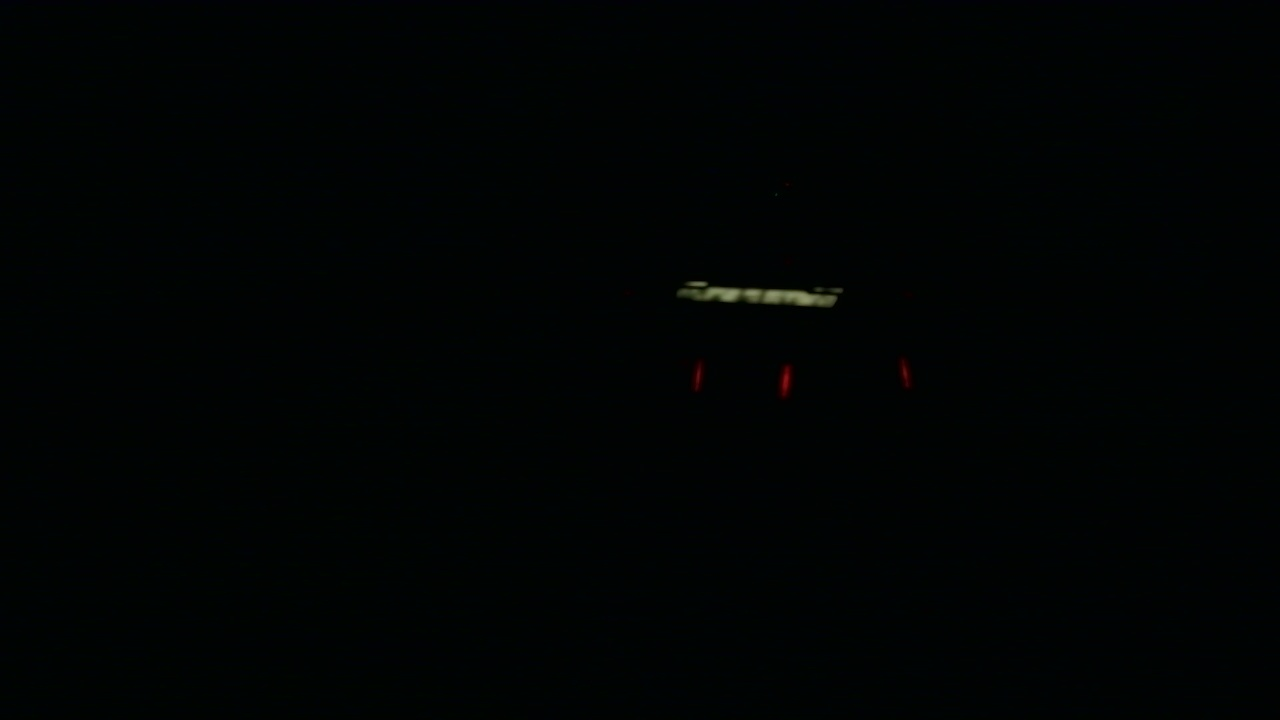lamp: (781, 357, 791, 404), (693, 362, 701, 399)
notpair1: (774, 356, 917, 401)
pair1: (694, 360, 791, 401)
